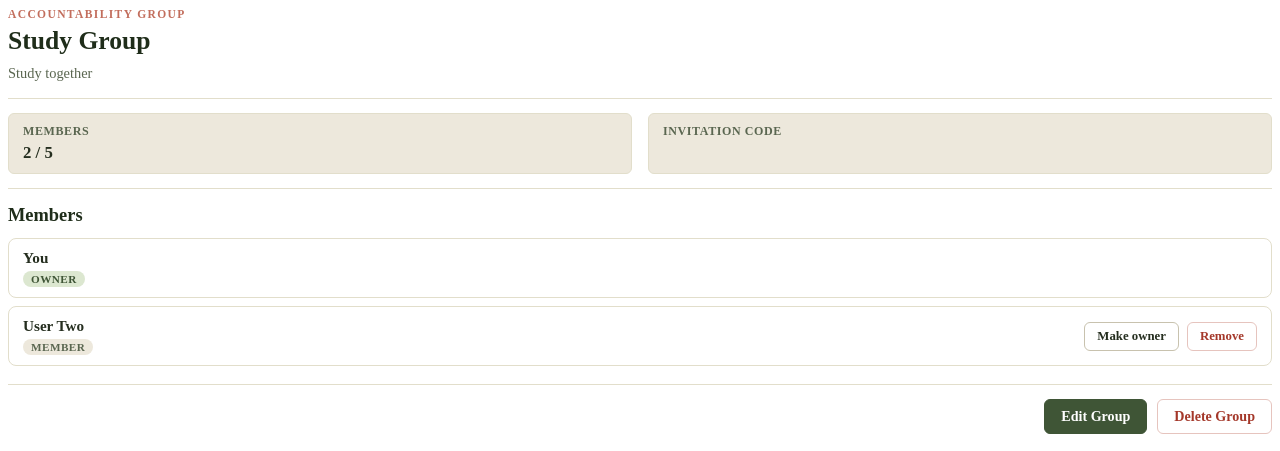
Test case: GroupManagement › allows the owner to change a member's role
Click the button "Make owner" at (1132, 336), box [1084,322,1179,351]
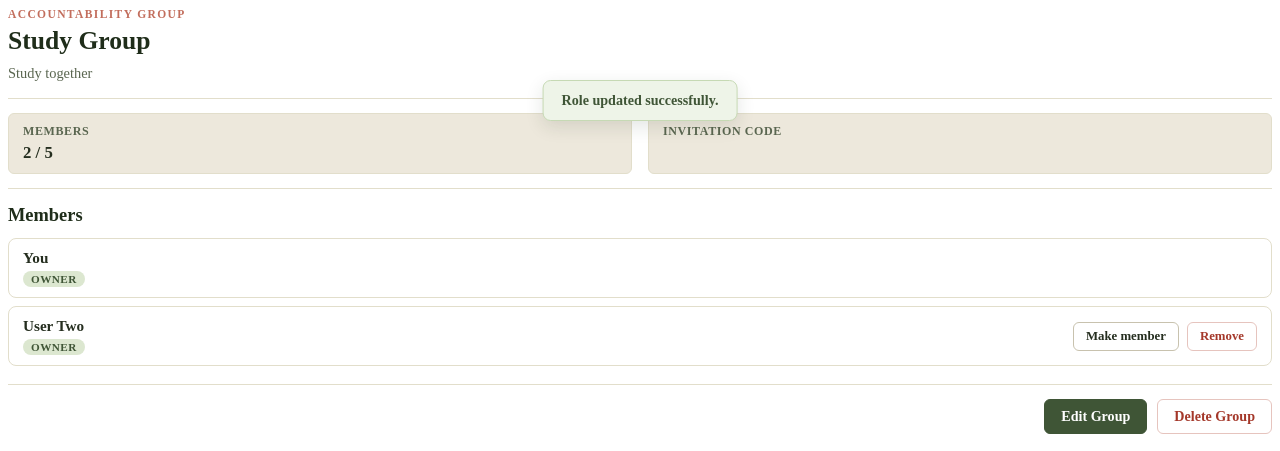
Expected: the text "Role updated successfully." is shown, [543,80,737,121]
